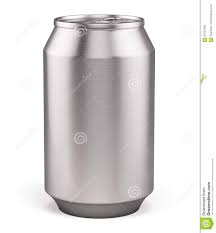can: (40, 11, 157, 219)
